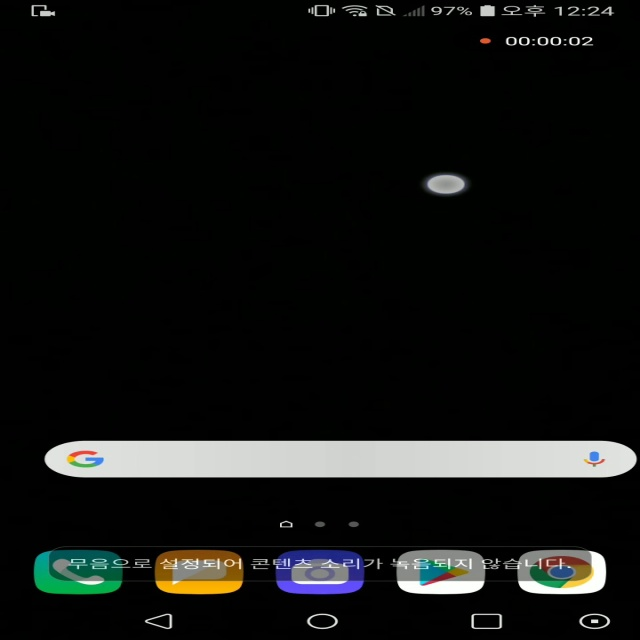Cursor: (426, 174, 471, 196)
